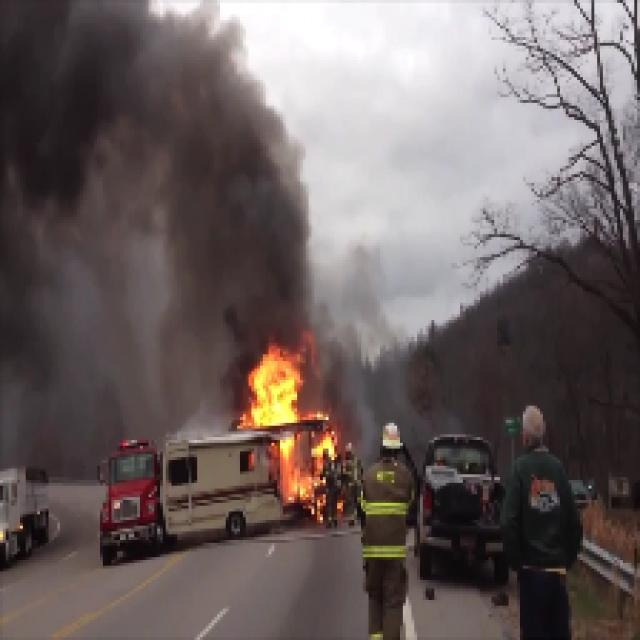fire: (247, 346, 304, 422)
smoke: (20, 17, 251, 189), (192, 206, 308, 330)
